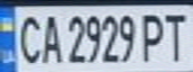2: (100, 10, 121, 64), (63, 10, 84, 64)
9: (118, 10, 142, 63), (81, 10, 103, 64)
A: (36, 10, 63, 64)
C: (12, 10, 45, 65)
P: (139, 9, 172, 63)
T: (160, 8, 193, 63)
